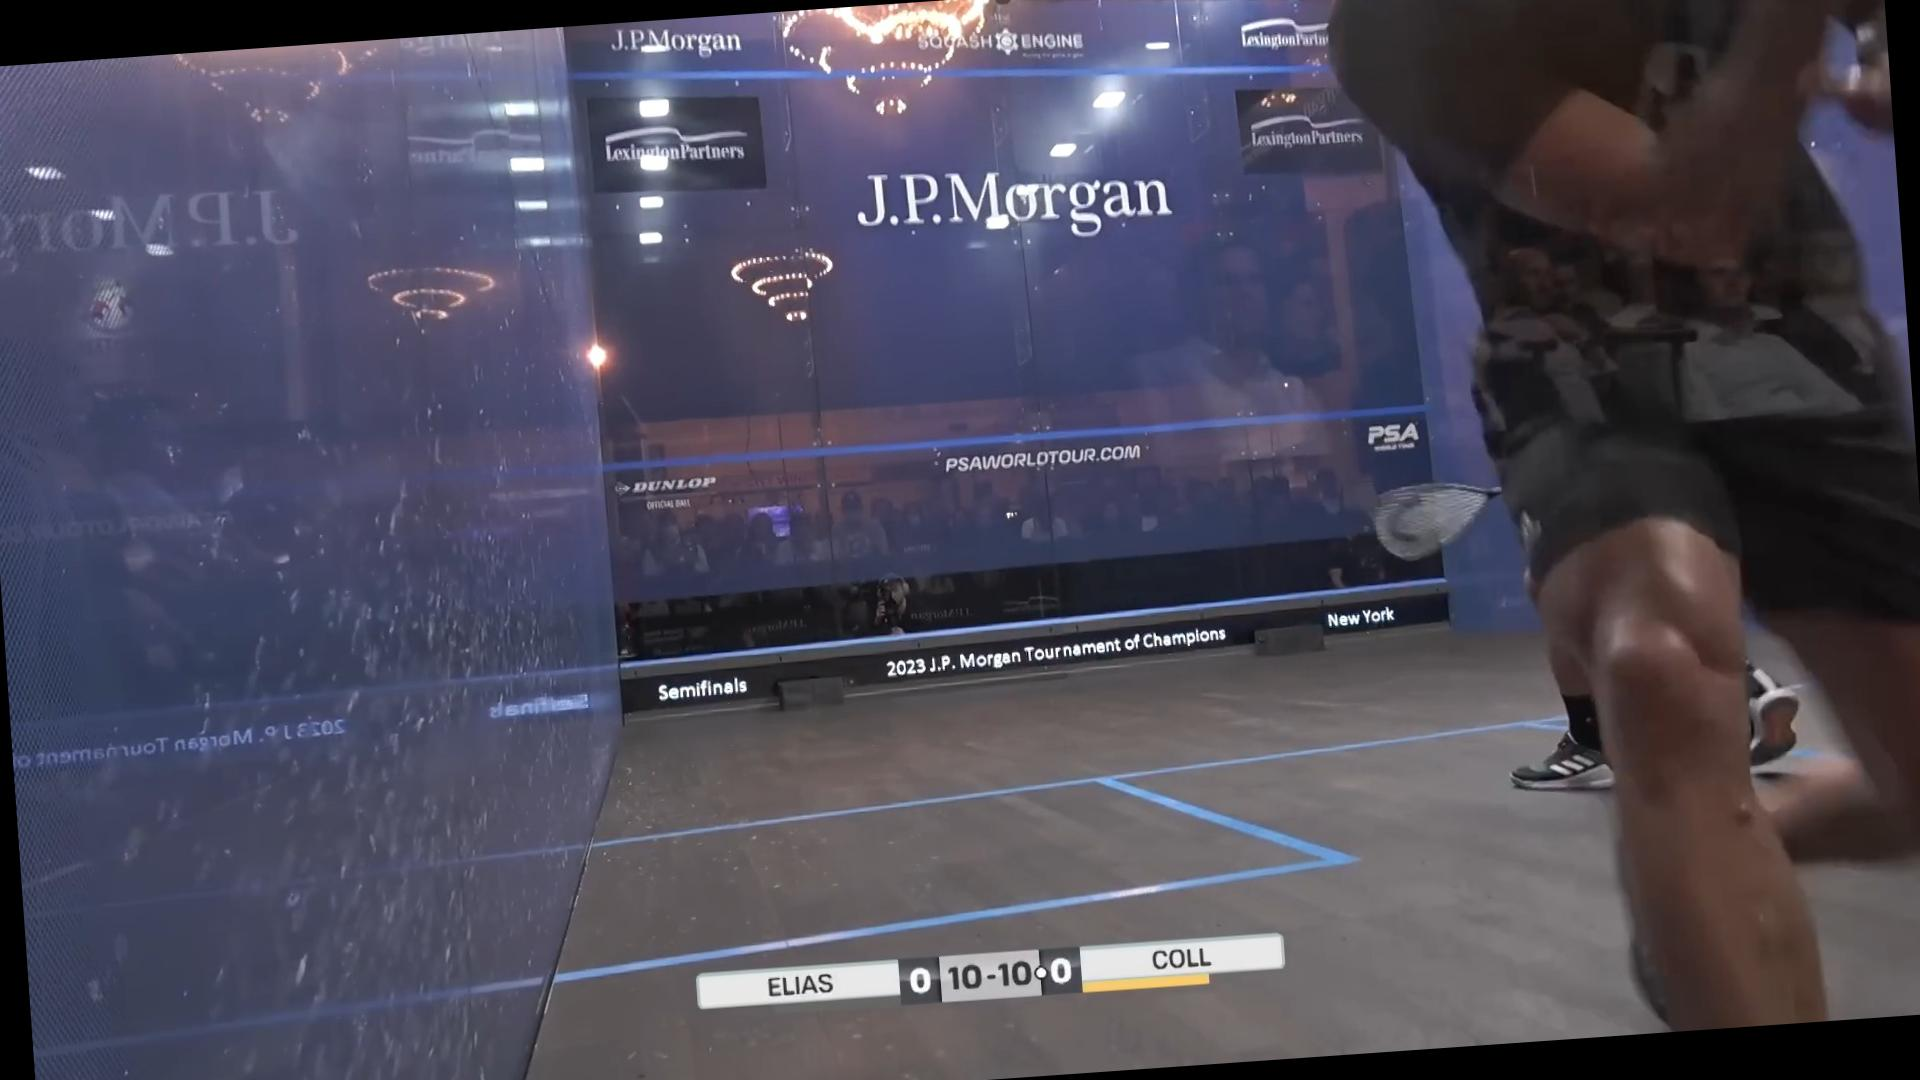Racket: (1360, 469, 1511, 580)
